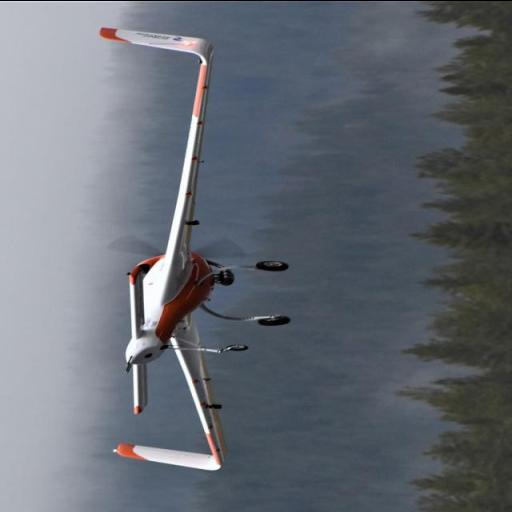uav: (92, 26, 275, 484)
